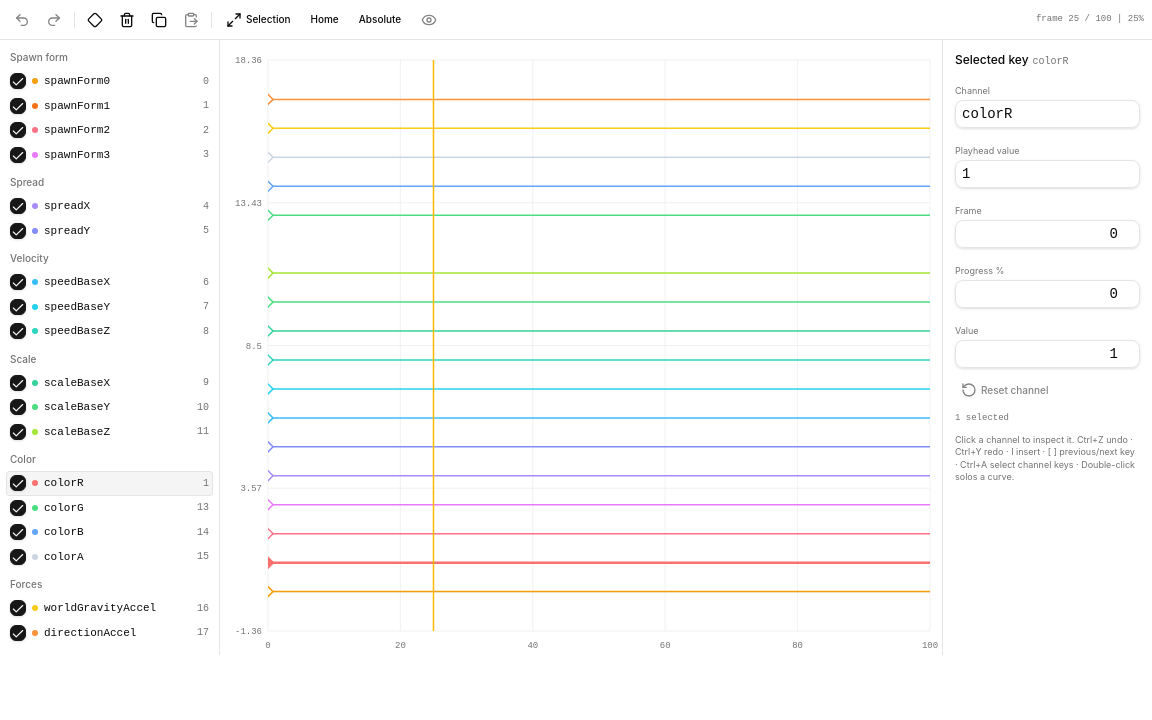
EfxbnGraphEditor › inspects the left-hand channel in the selected-key panel
expect the field labelled "Channel" holds "colorR": met, box [955, 100, 1140, 128]
Click the button "spawnForm0".
click(122, 81)  # box [44, 73, 199, 90]
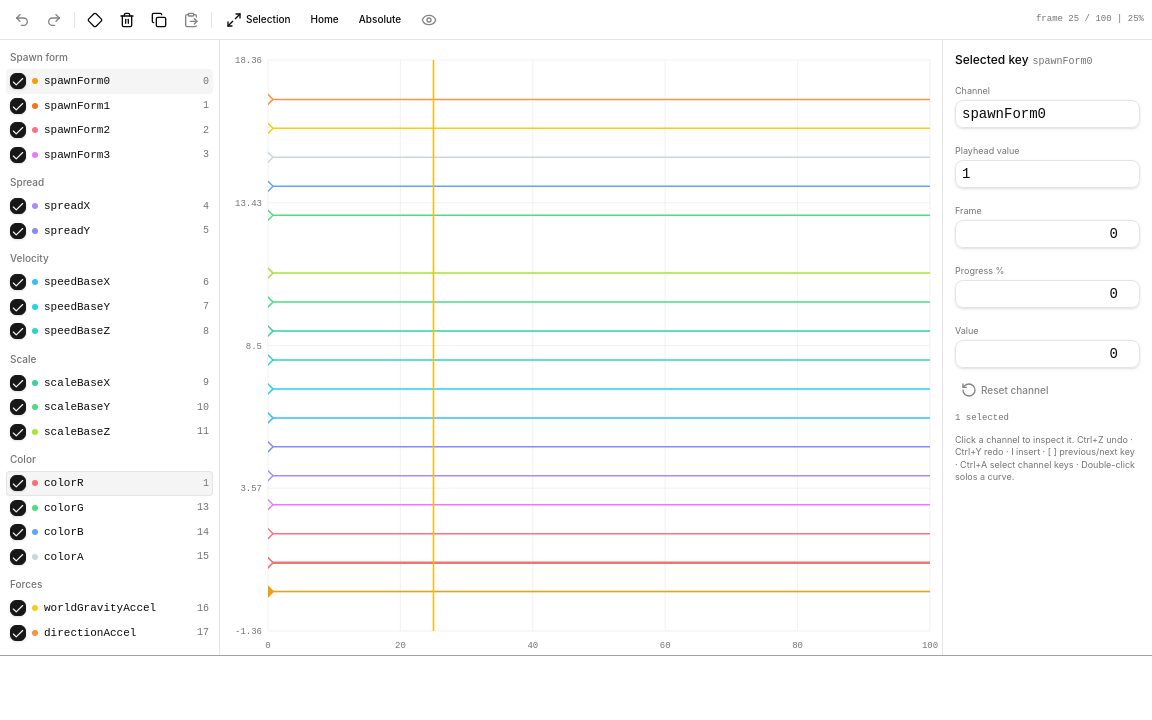
expect the field labelled "Channel" holds "spawnForm0": met, box [955, 100, 1140, 128]
expect the number field named "Selected EFXBN key value" holds "0": met, box [955, 340, 1140, 368]
